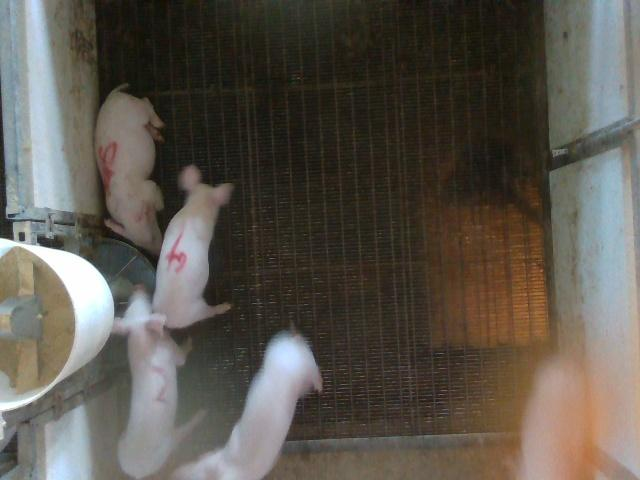pig-1: (521, 356, 584, 478)
pig-2: (114, 288, 186, 478)
pig-4: (152, 165, 234, 328)
pig-5: (95, 84, 164, 254)
